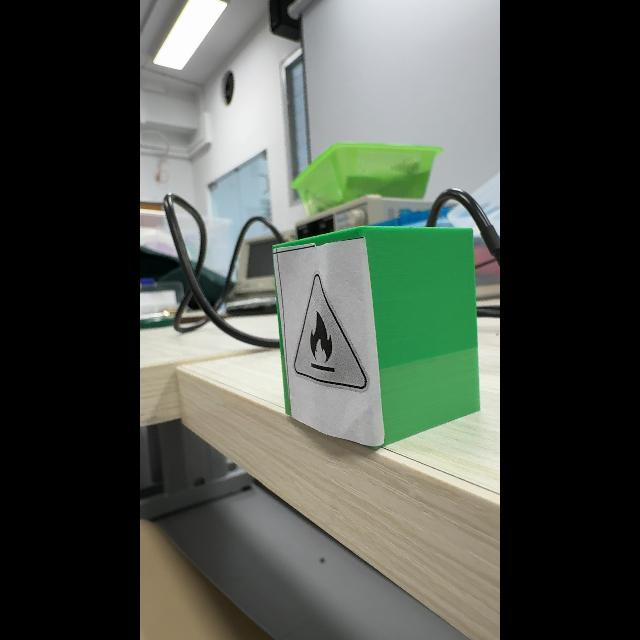Fire: (293, 273, 369, 390)
